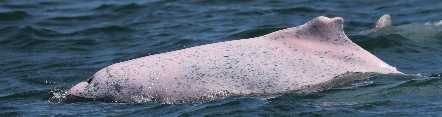fin: (54, 9, 417, 112)
